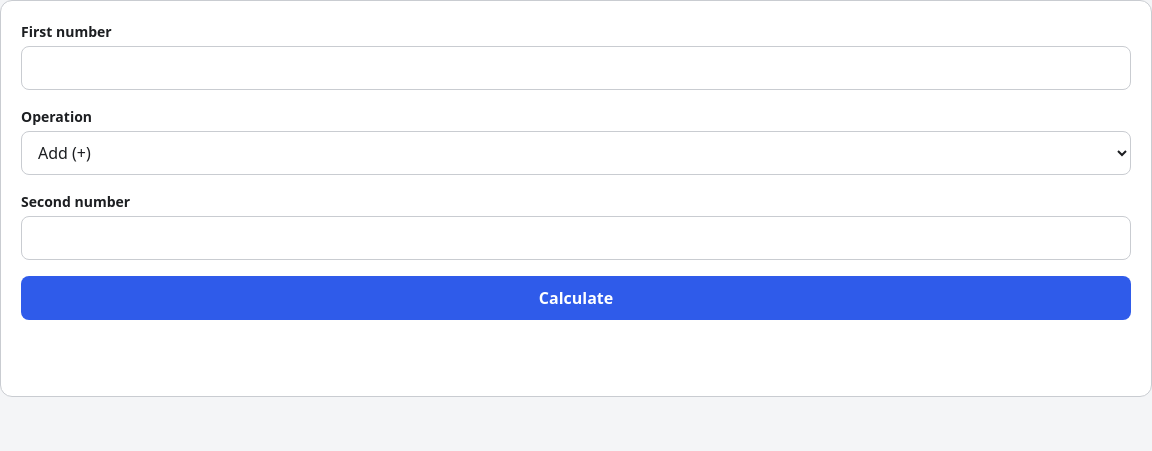
Test: CalculatorForm › shows a message for division by zero
The width and height of the screenshot is (1152, 451).
Type "1" into the field labelled "First number".
click(576, 68); type("1")  # box [21,46,1131,90]
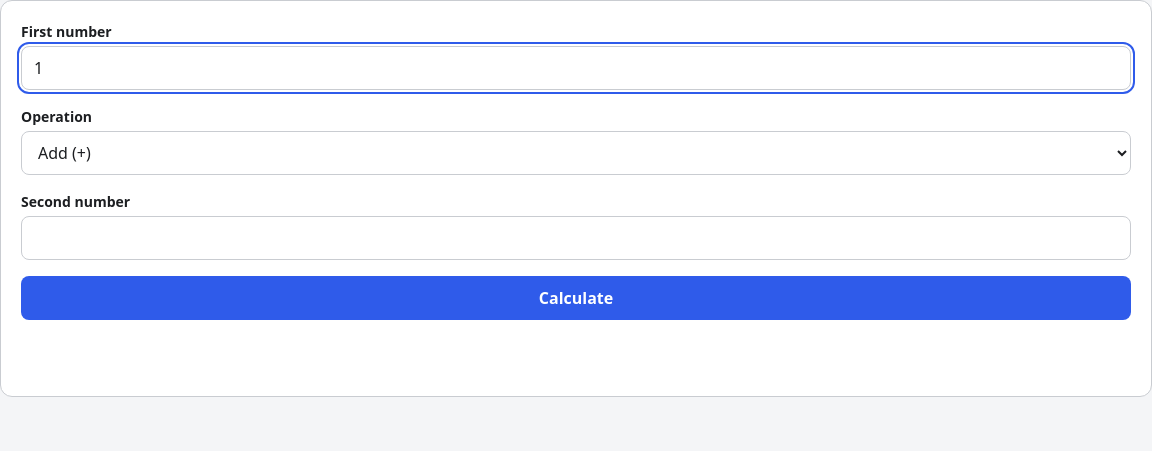
Select "Divide (÷)" in the dropdown labelled "Operation" at (576, 153), box [21,131,1131,175]
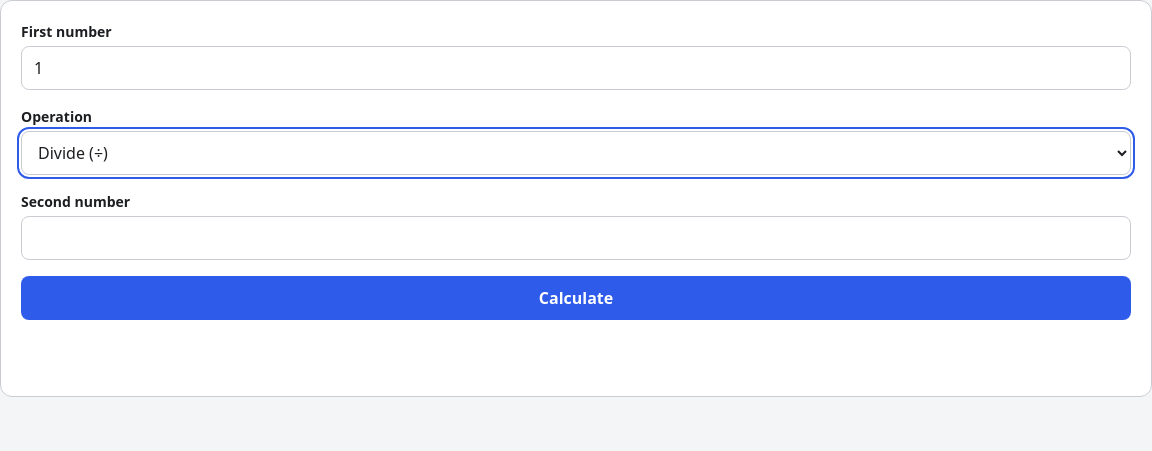
Type "0" into the field labelled "Second number".
click(576, 238); type("0")  # box [21,216,1131,260]
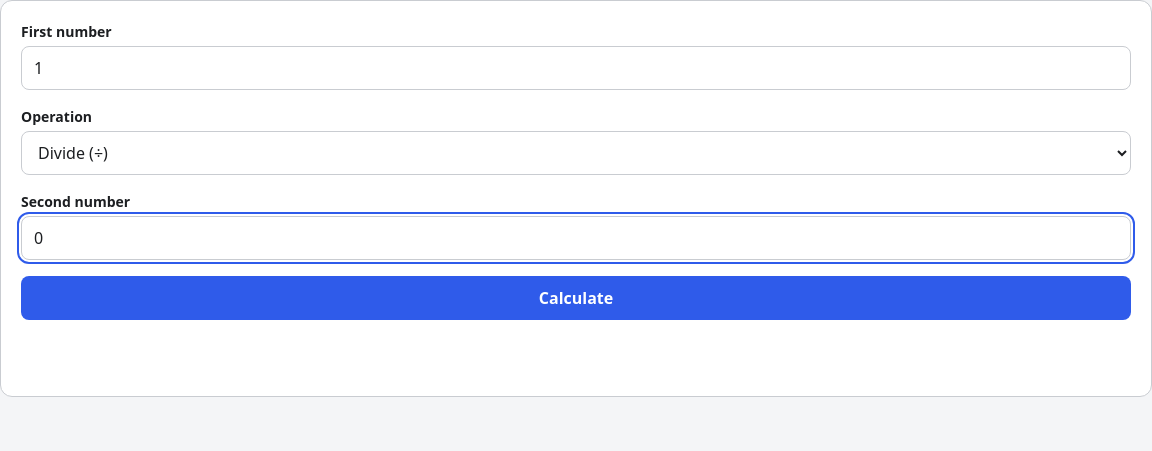
Click the button "Calculate".
click(576, 298)  # box [21,276,1131,320]
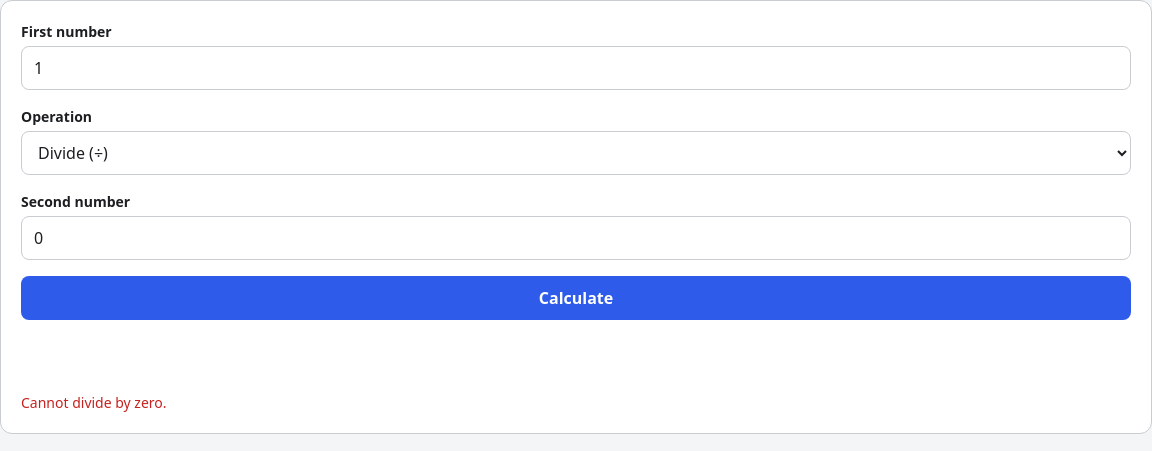
Expected: the message reads "Cannot divide by zero.", [21,393,167,412]
